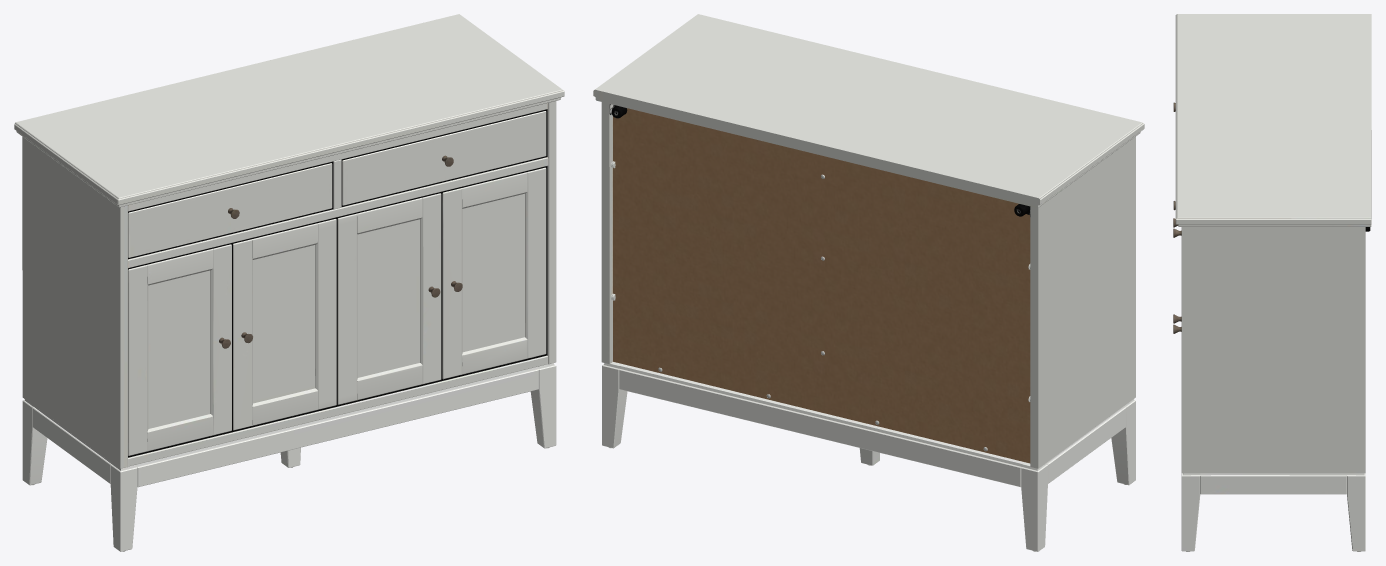
File: idanas_kredens_80496025.glb
3 views of the same model, side by side, from view 1: azimuth 30°, elevation 25°; view 2: azimuth 150°, elevation 25°; view 3: azimuth 270°, elevation 25° (orthographic). The views are drawn at different scales.
Visible parts, largest first — view 1: idanas_kredens_80496025; view 2: idanas_kredens_80496025; view 3: idanas_kredens_80496025.
Part boxes in pixels (x1,y1,x2,y2): idanas_kredens_80496025: [14, 14, 564, 551]; idanas_kredens_80496025: [593, 14, 1144, 551]; idanas_kredens_80496025: [1173, 14, 1371, 551].
Size of the model in its own units: 1.24 by 0.951 by 0.5057.
Materials: 1 (1 with a texture image).
